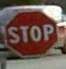stop: (2, 6, 59, 57)
